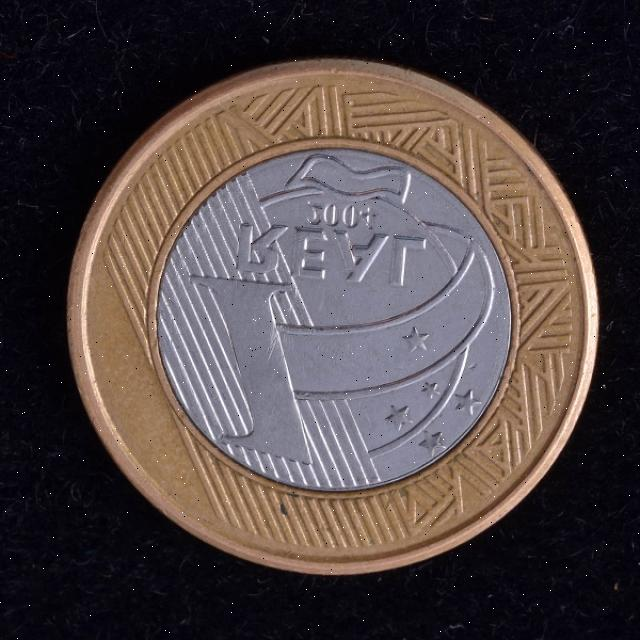1 real: (67, 58, 600, 576)
